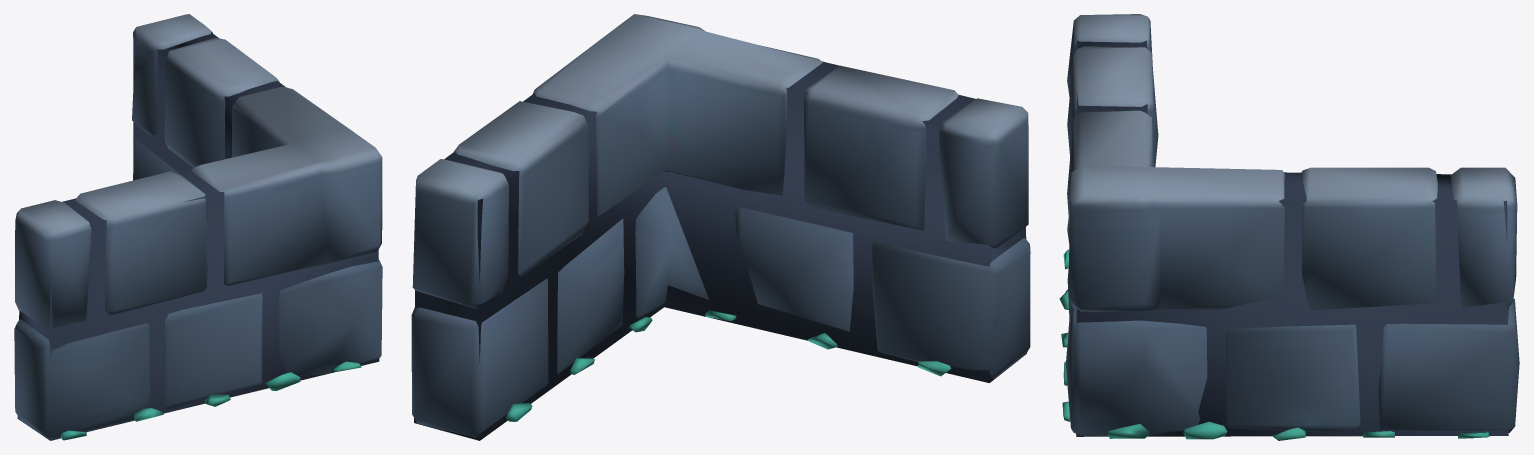
Rendered from wall-corner.glb.
3 renders of one model, left to right at view 1: azimuth 30°, elevation 25°; view 2: azimuth 150°, elevation 25°; view 3: azimuth 270°, elevation 25°, orthographic. The views are drawn at different scales.
Parts seen in each view (by area): view 1: joint-bed; view 2: joint-bed; view 3: joint-bed.
Boxes of the visible parts, left/top/right/bottom form: joint-bed: left=14, top=14, right=382, bottom=440; joint-bed: left=411, top=14, right=1030, bottom=440; joint-bed: left=1059, top=14, right=1519, bottom=440.
Size of the model in its own units: 2.03 by 1.2 by 2.05.
Materials: 1 (1 with a texture image).
